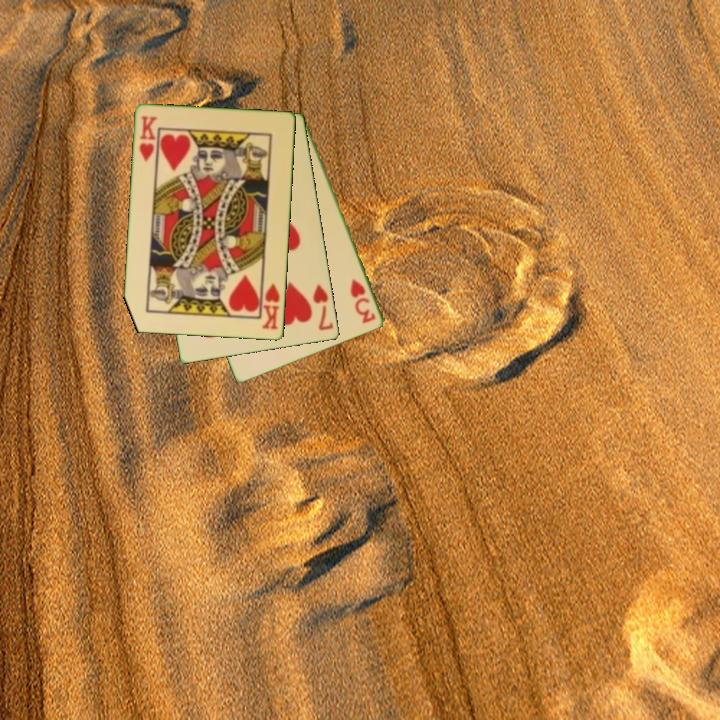3h: (347, 275, 379, 327)
7h: (310, 281, 336, 334)
Kh: (258, 277, 283, 332), (136, 113, 160, 165)
